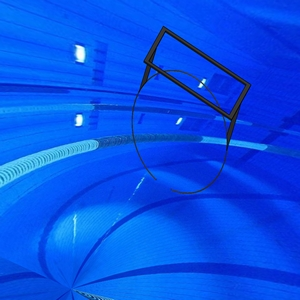circle: (131, 25, 252, 195)
